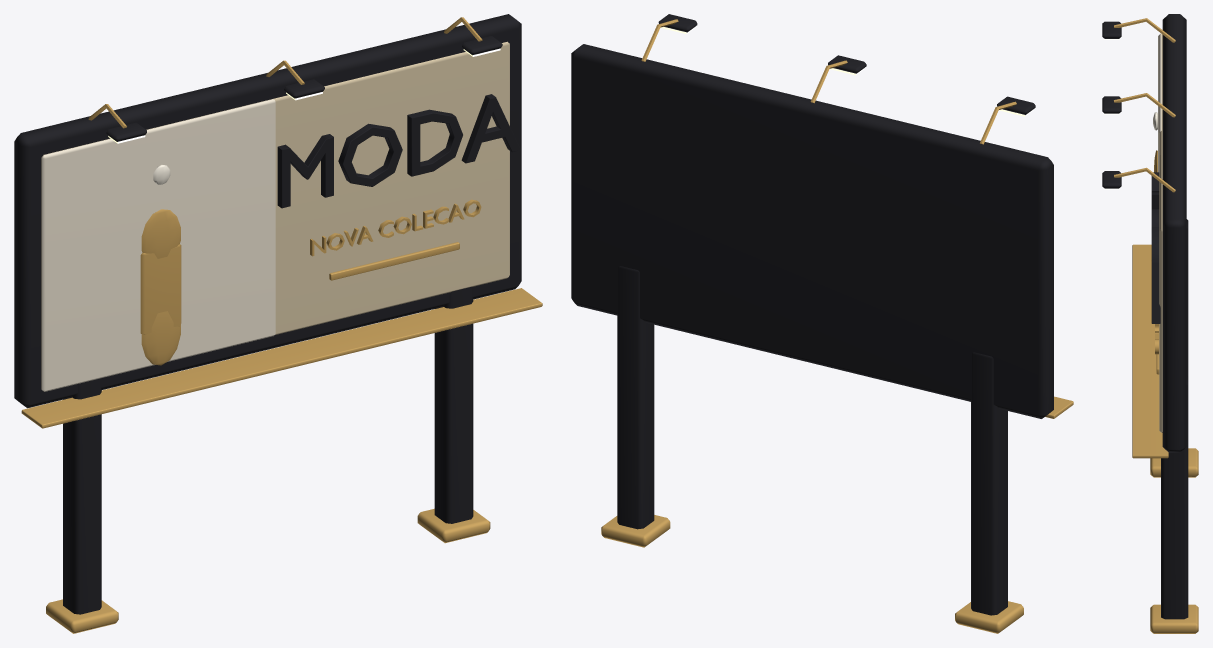
The model's file is billboard_fashion.glb.
The picture shows the model from 3 angles, left to right: view 1: azimuth 30°, elevation 25°; view 2: azimuth 150°, elevation 25°; view 3: azimuth 270°, elevation 25°; orthographic projection. The views are drawn at different scales.
Parts seen in each view (by area): view 1: billboard_fashion; view 2: billboard_fashion; view 3: billboard_fashion.
Part boxes in pixels (left/top/right/bottom): billboard_fashion: left=14, top=14, right=542, bottom=633; billboard_fashion: left=571, top=14, right=1073, bottom=633; billboard_fashion: left=1102, top=14, right=1198, bottom=633.
Bounding box in the file's own units: 6.2 × 6.22 × 1.2.
